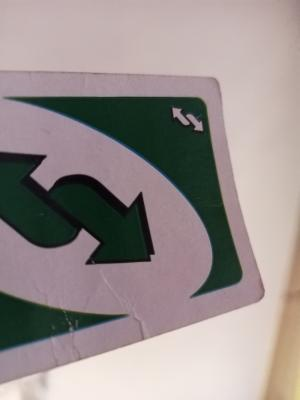reverse: (161, 102, 209, 139)
